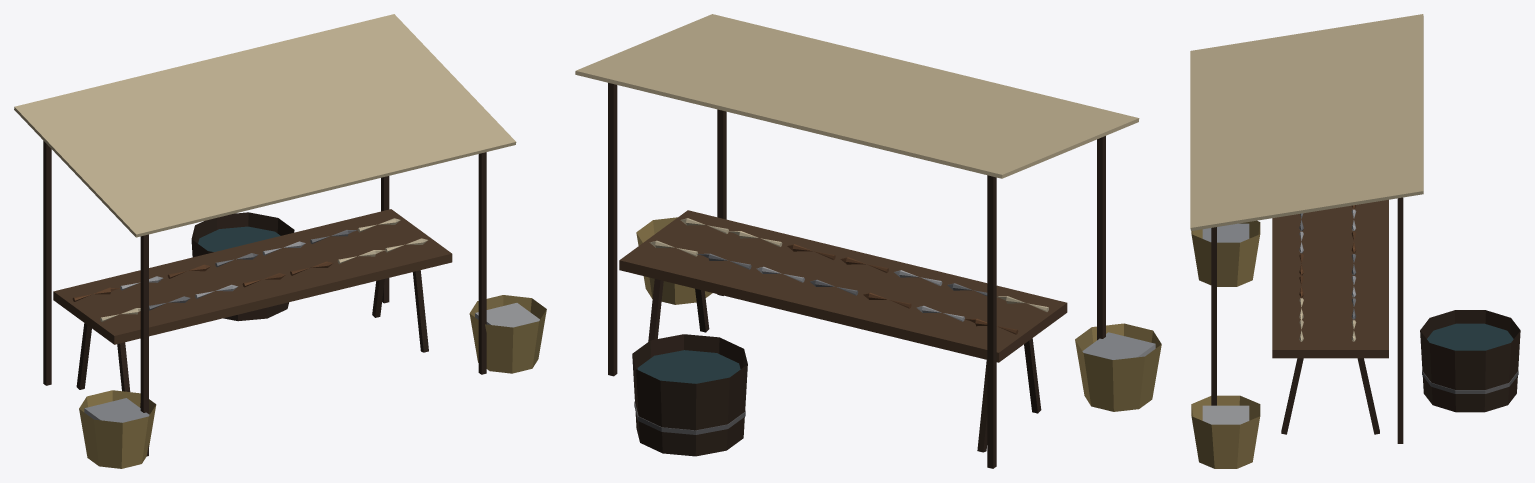
File: walk_prop_fish_stall.glb
3 views of the same model, side by side, from view 1: azimuth 30°, elevation 25°; view 2: azimuth 150°, elevation 25°; view 3: azimuth 270°, elevation 25° (orthographic). The views are drawn at different scales.
Parts seen in each view (by area): view 1: walk_prop_fish_stall; view 2: walk_prop_fish_stall; view 3: walk_prop_fish_stall.
Boxes of the visible parts, <box> form: walk_prop_fish_stall: <box>14,14,546,468</box>; walk_prop_fish_stall: <box>575,14,1161,468</box>; walk_prop_fish_stall: <box>1190,14,1520,468</box>.
Size of what is drawn, in the model's own units: 4.29 by 2.48 by 2.84.
2 materials, 2 textured.
